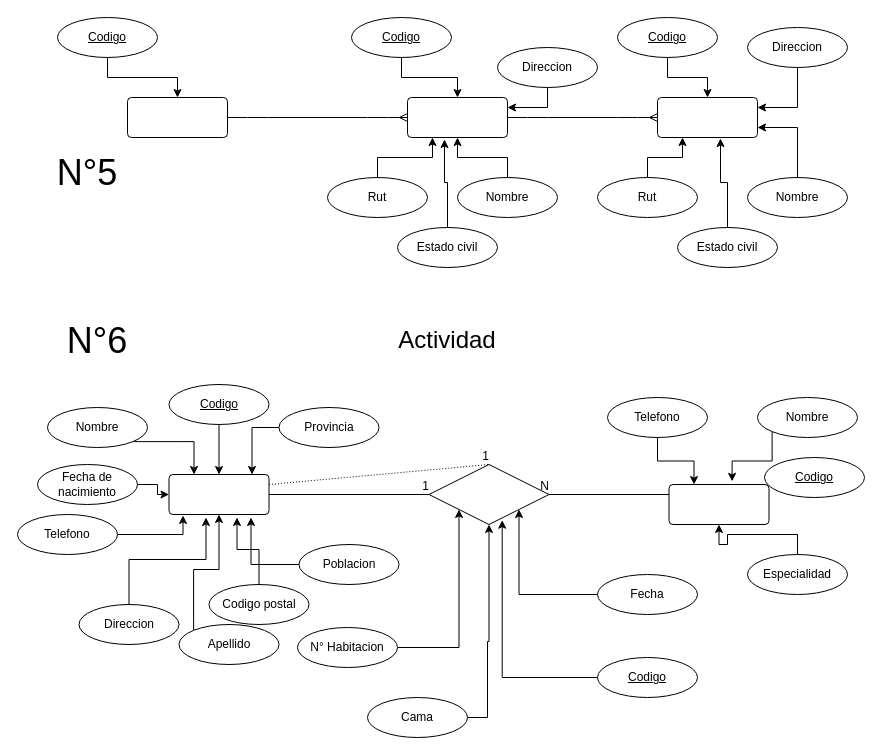
This 882x755 diagram has some shape labels left out. The shapes that lost their labels are listed below. From the top down, each one's centre as x and y in pixels, then its label:
At (177,117): "GERENTE".
At (457,117): "JEFE".
At (707,117): "EMPLEADO".
At (218,494): "PACIENTE".
At (488,494): "INGRESO".
At (718,504): "MEDICO".
